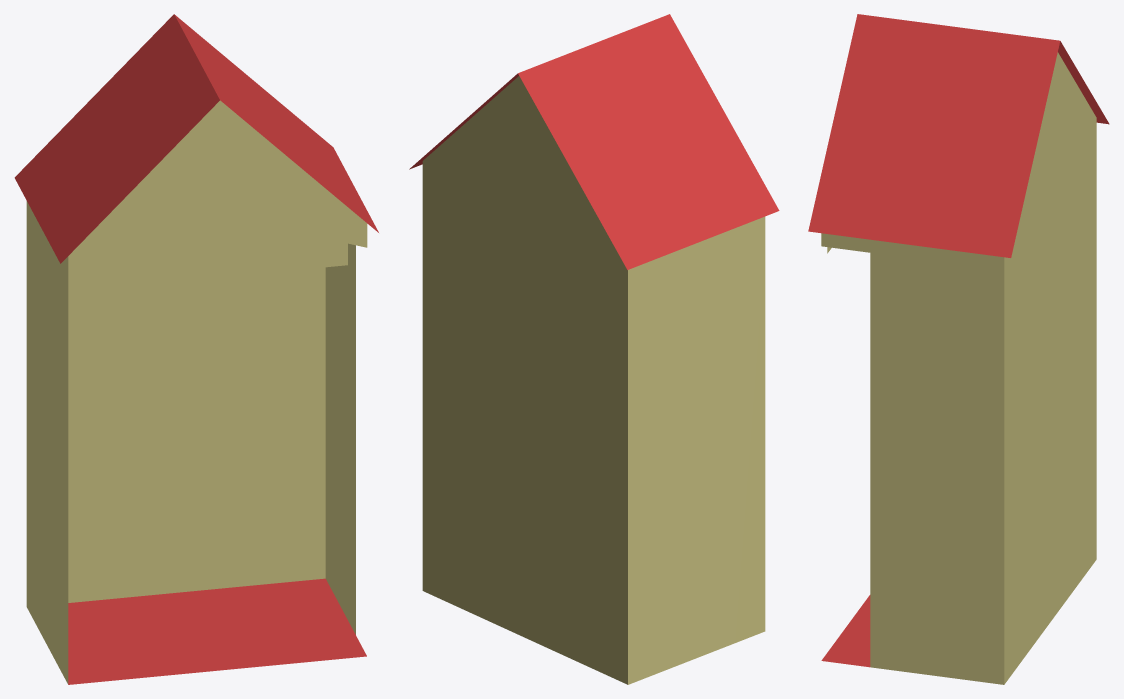
3 views of the same model, side by side, from view 1: azimuth 30°, elevation 25°; view 2: azimuth 150°, elevation 25°; view 3: azimuth 270°, elevation 25° (orthographic). The views are drawn at different scales.
Size of the model in its own units: 9.1 by 7.22 by 15.41.
